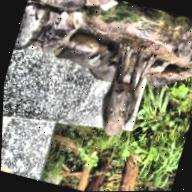boar: (92, 40, 159, 142)
